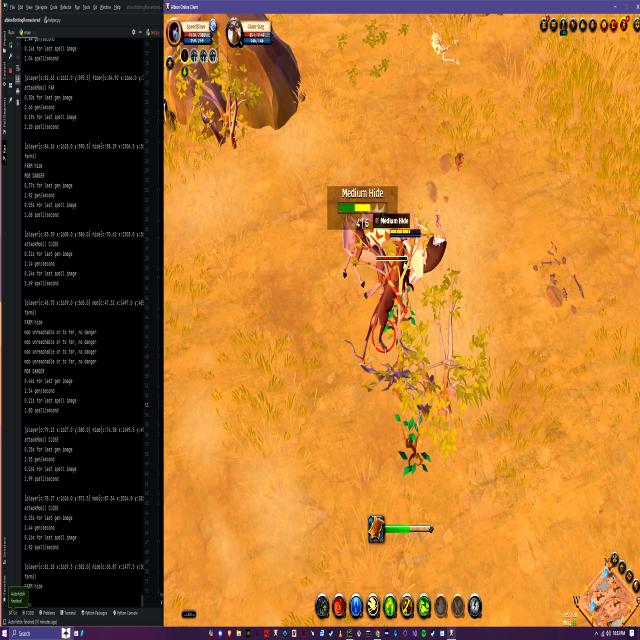mob: (343, 221, 388, 292), (412, 214, 448, 274)
ore: (361, 249, 411, 367)
red: (392, 226, 419, 298)
